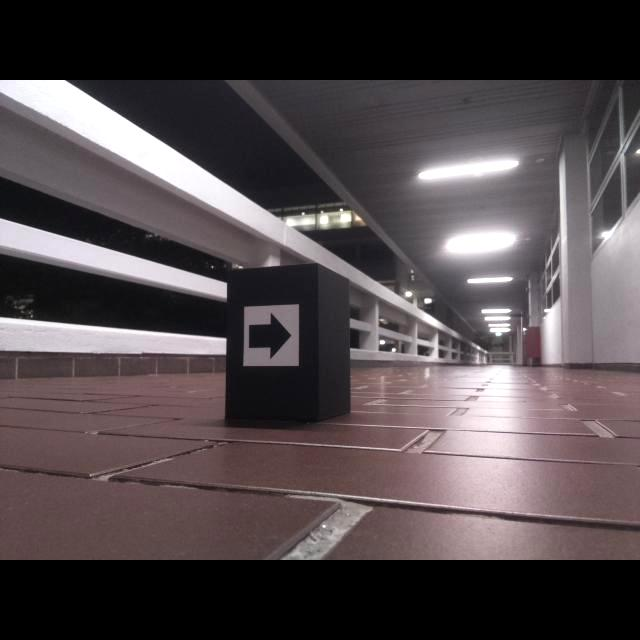RIGHT: (248, 314, 293, 359)
